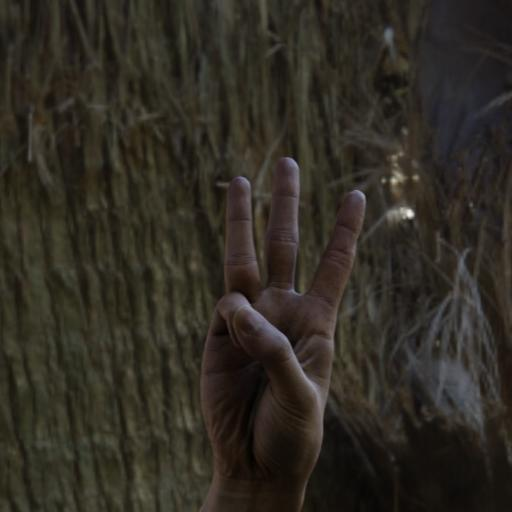W: (194, 154, 369, 480)
